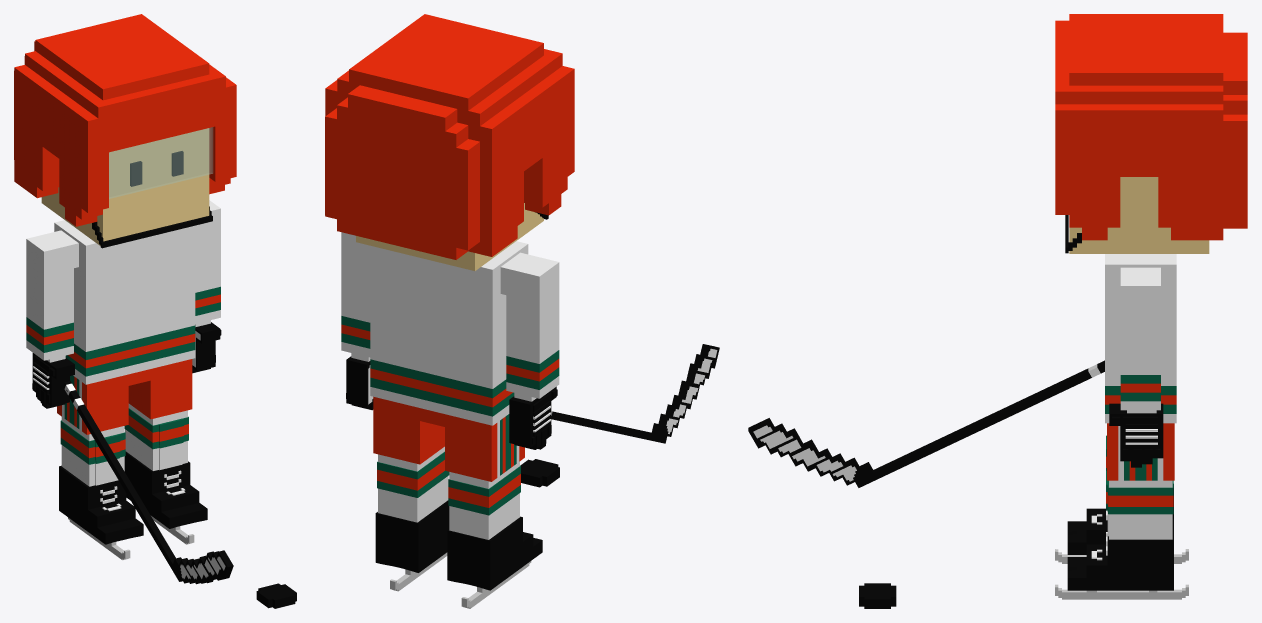
Rendered from hockey_guy.glb.
The picture shows the model from 3 angles, left to right: view 1: azimuth 30°, elevation 25°; view 2: azimuth 150°, elevation 25°; view 3: azimuth 270°, elevation 25°; orthographic projection. The views are drawn at different scales.
Parts seen in each view (by area): view 1: hockey.helmet, Body.001, head, Arm.002, shorts, glass, left.skate.003, left.skate, Cube.002, Legs.009, Legs.008, Arm.003 (+4 smaller); view 2: hockey.helmet, Body.001, shorts, Arm.002, left.skate.003, left.skate, Legs.008, Legs.009, Arm.003, Cube.002, right.glove, head (+2 smaller); view 3: hockey.helmet, left.skate, Cube.002, Arm.003, Body.001, head, Legs.009, left.glove, shorts, left.skate.003, puck.
Part boxes in pixels (x1=…): hockey.helmet: x1=14, y1=14, x2=236, y2=248; Body.001: x1=54, y1=220, x2=195, y2=384; head: x1=41, y1=128, x2=209, y2=245; Arm.002: x1=26, y1=230, x2=78, y2=360; shorts: x1=57, y1=359, x2=192, y2=434; glass: x1=109, y1=127, x2=212, y2=198; left.skate.003: x1=59, y1=465, x2=143, y2=560; left.skate: x1=124, y1=451, x2=207, y2=544; Cube.002: x1=64, y1=380, x2=233, y2=584; Legs.009: x1=124, y1=403, x2=188, y2=470; Legs.008: x1=60, y1=417, x2=125, y2=486; Arm.003: x1=195, y1=200, x2=220, y2=323; hockey.helmet: x1=325, y1=14, x2=574, y2=259; Body.001: x1=370, y1=241, x2=528, y2=425; shorts: x1=373, y1=396, x2=524, y2=481; Arm.002: x1=500, y1=252, x2=559, y2=398; left.skate.003: x1=447, y1=516, x2=542, y2=608; left.skate: x1=375, y1=500, x2=449, y2=591; Legs.008: x1=448, y1=461, x2=520, y2=539; Legs.009: x1=377, y1=446, x2=449, y2=522; Arm.003: x1=341, y1=232, x2=370, y2=357; Cube.002: x1=551, y1=344, x2=719, y2=443; right.glove: x1=509, y1=386, x2=557, y2=449; head: x1=356, y1=203, x2=543, y2=270; hockey.helmet: x1=1055, y1=14, x2=1247, y2=253; left.skate: x1=1055, y1=519, x2=1188, y2=599; Cube.002: x1=748, y1=360, x2=1104, y2=487; Arm.003: x1=1120, y1=267, x2=1160, y2=410; Body.001: x1=1105, y1=254, x2=1176, y2=423; head: x1=1069, y1=177, x2=1209, y2=253; Legs.009: x1=1106, y1=471, x2=1173, y2=539; left.glove: x1=1109, y1=403, x2=1163, y2=467; shorts: x1=1107, y1=423, x2=1174, y2=480; left.skate.003: x1=1055, y1=484, x2=1188, y2=563; puck: x1=859, y1=583, x2=896, y2=608.
Size of the model in its own units: 4.99 by 12.75 by 10.72.
Materials: 11 (5 with a texture image).
